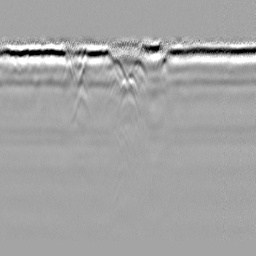cavity: (116, 76, 140, 116)
